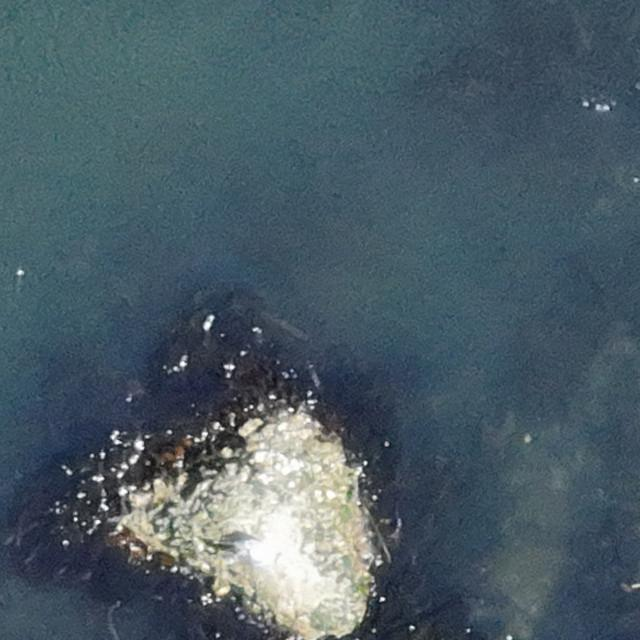umineko: (228, 537, 276, 566)
